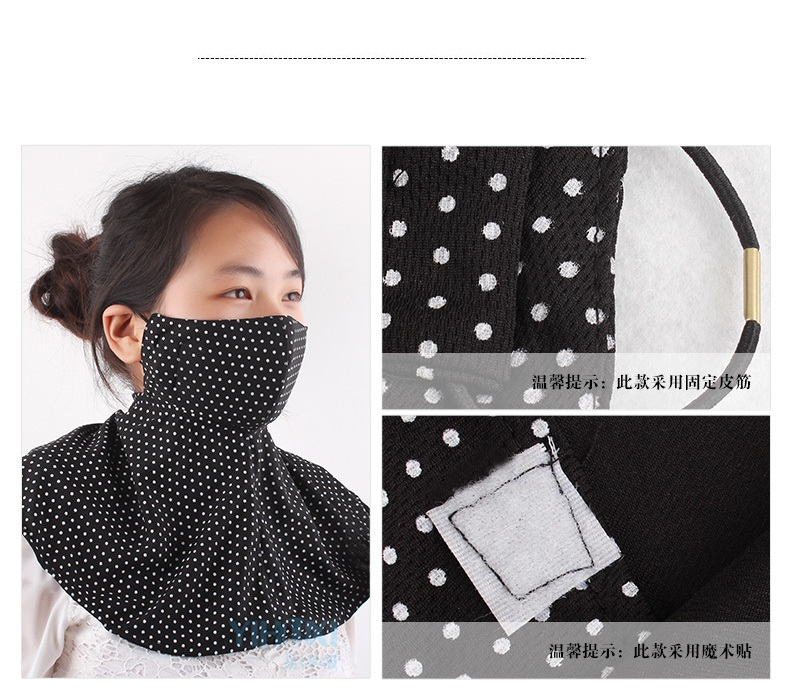face_mask: (146, 206, 310, 429)
